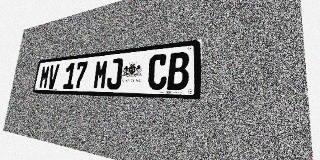1: (63, 62, 77, 89)
7: (73, 61, 88, 89)
B: (167, 51, 190, 90)
C: (147, 53, 168, 90)
J: (106, 58, 123, 89)
M: (93, 59, 109, 89), (39, 65, 51, 89)
V: (47, 64, 59, 89)
